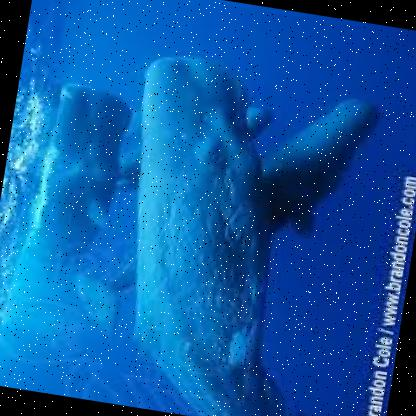sperm_whale: (83, 46, 379, 415)
